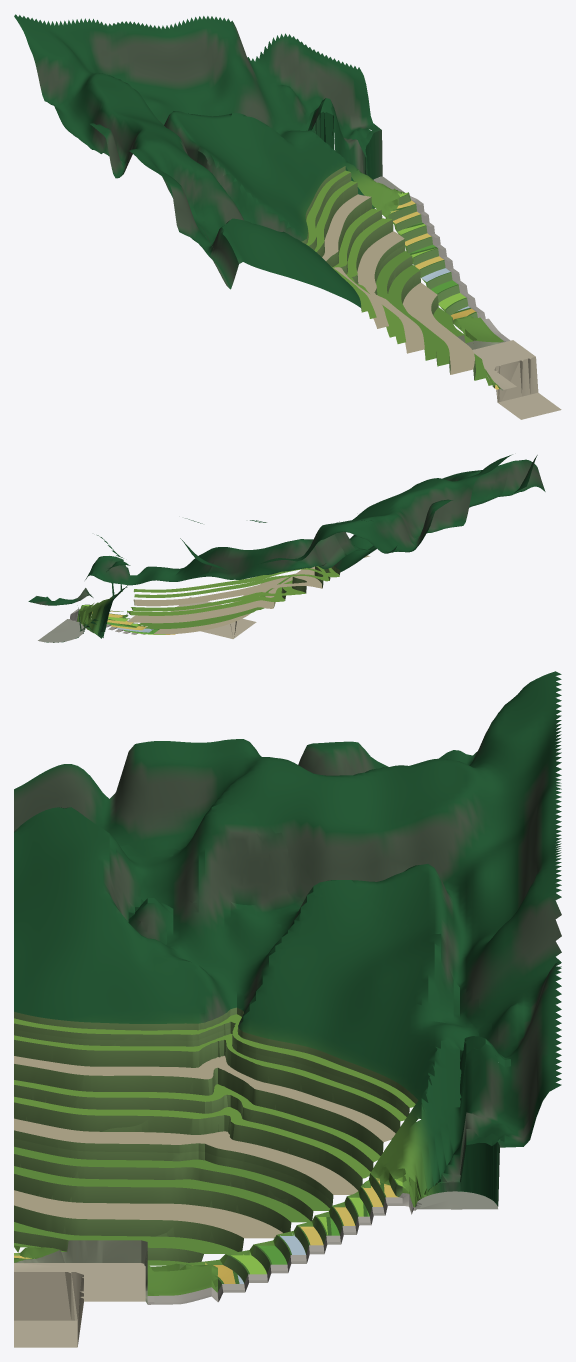
The model's file is payo_land_x0_ym1_lod1.glb.
The picture shows the model from 3 angles, top to bottom: view 1: azimuth 30°, elevation 25°; view 2: azimuth 150°, elevation 25°; view 3: azimuth 270°, elevation 25°; orthographic projection. The views are drawn at different scales.
Parts seen in each view (by area): view 1: payo_land_x0_ym1; view 2: payo_land_x0_ym1; view 3: payo_land_x0_ym1.
Boxes of the visible parts, left/top/right/bottom form: payo_land_x0_ym1: left=14, top=14, right=561, bottom=419; payo_land_x0_ym1: left=28, top=454, right=545, bottom=642; payo_land_x0_ym1: left=14, top=671, right=561, bottom=1347.
Size of the model in its own units: 255 by 232 by 258.
